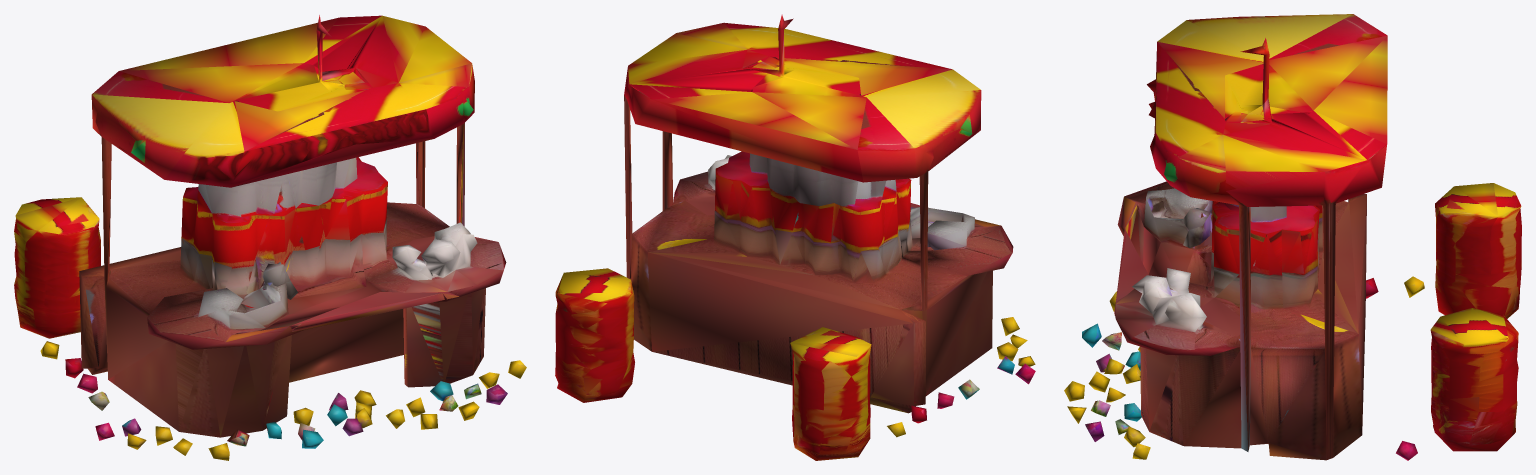
File: botellasMar.fbx
The picture shows the model from 3 angles, left to right: view 1: azimuth 30°, elevation 25°; view 2: azimuth 150°, elevation 25°; view 3: azimuth 270°, elevation 25°; orthographic projection. The views are drawn at different scales.
Visible parts, largest first — view 1: Mesh_0; view 2: Mesh_0; view 3: Mesh_0.
Part boxes in pixels (x1,y1,x2,y2): Mesh_0: (14, 15, 526, 460); Mesh_0: (555, 14, 1035, 460); Mesh_0: (1064, 14, 1521, 460).
Size of the model in its own units: 191 by 164 by 190.
Materials: 1 (1 with a texture image).
